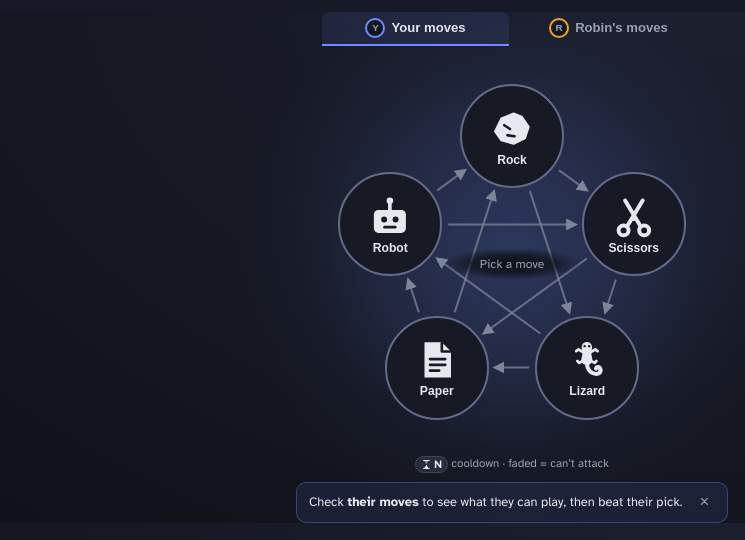
Test: <MovePicker> tap to preview, tap again to lock in (JQ 2.4) › previews on the first tap without playing the move
Click the button "Rock".
click(512, 136)  # box [460,84,564,188]
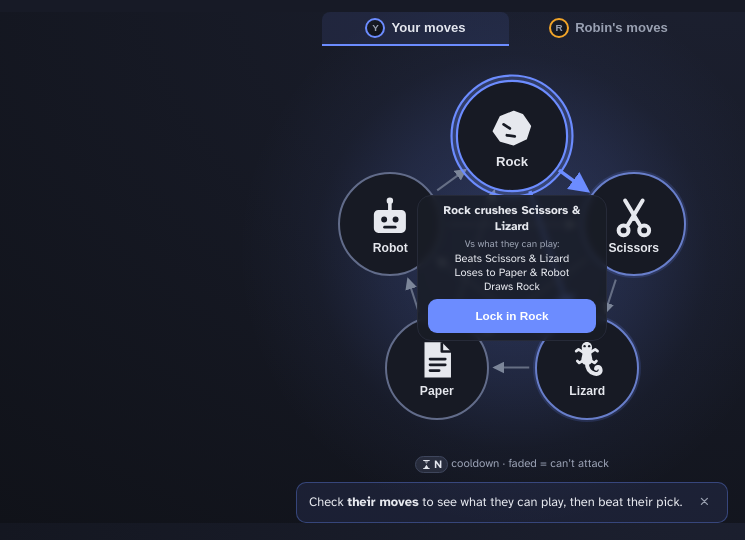
Now the text "Rock crushes Scissors & Lizard" is shown, box [444,203,580,233]
